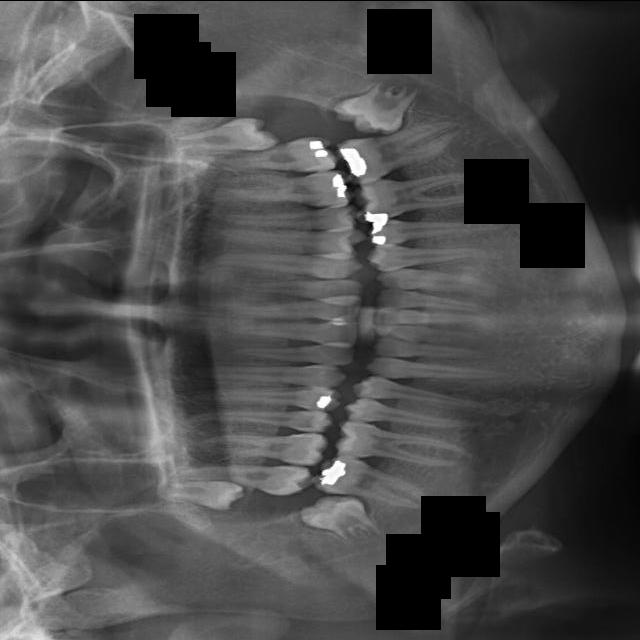3M ESPE Implant: (155, 468, 247, 514)
AGS Medikal Implant: (331, 115, 468, 188)
AMerOss Implant: (348, 156, 496, 226)
Amalgam filling: (167, 455, 314, 497)
Anthogyr Implant: (367, 211, 511, 244)
Bicon Implant: (365, 236, 492, 270)
BioHorizons Implant: (374, 263, 507, 301)
BioLife Implant: (374, 289, 501, 317)
Biomet 3i Implant: (373, 309, 488, 324)
Blue Sky Bio Implant: (372, 320, 477, 346)
Camlog Implant: (371, 338, 494, 364)
Caries: (225, 278, 365, 297)
Composite filling: (365, 355, 515, 389)
Cowellmedi Implant: (351, 375, 493, 411)
Crown: (342, 397, 487, 430)
DENTSPLY Implant: (193, 432, 329, 465)
Dentatus Implant: (334, 420, 467, 470)
Dentis Implant: (313, 451, 430, 512)
Dentium Implant: (297, 479, 392, 554)
Euroteknika Implant: (180, 403, 334, 433)
Filling: (186, 381, 342, 412)
Frontier Implant: (181, 363, 347, 387)
Hiossen Implant: (203, 245, 364, 281)
Implant: (221, 321, 358, 346)
Implant Direct: (217, 339, 354, 366)
Keystone Dental Implant: (220, 299, 362, 320)
MIS Implant: (212, 227, 367, 256)
Mandible: (207, 204, 357, 231)
Maxilla: (205, 169, 351, 211)
Megagen Implant: (185, 134, 336, 179)
Neodent Implant: (168, 115, 279, 153)
Neoss Implant: (328, 61, 433, 153)
